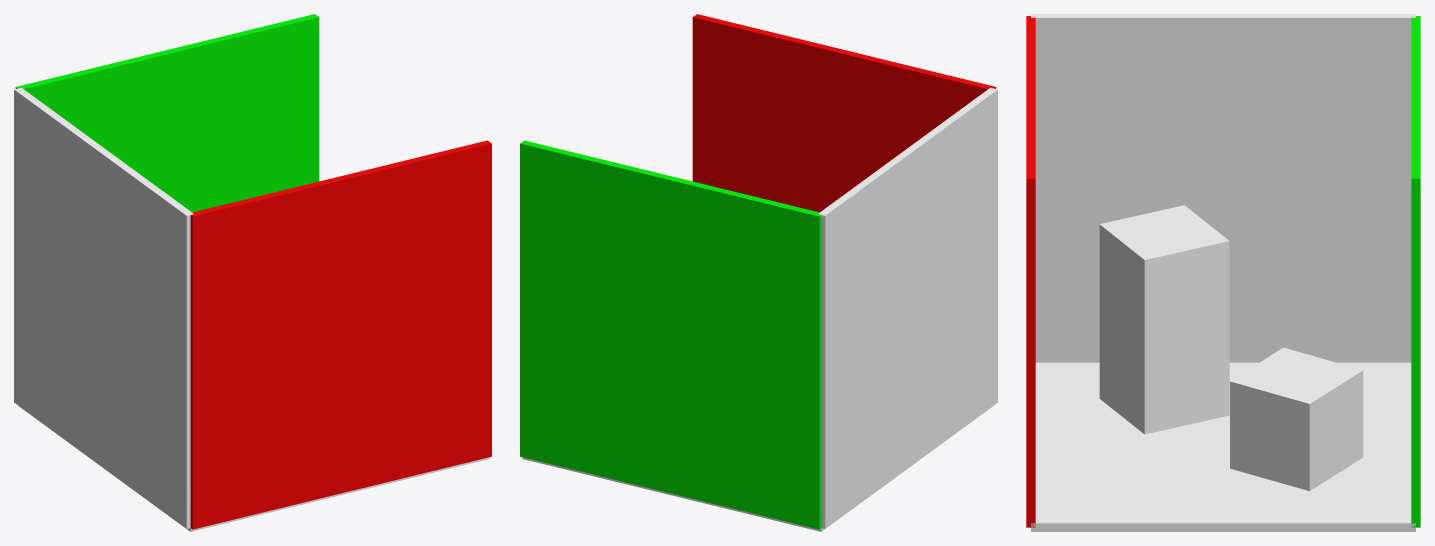
File: cornell_box.obj
The picture shows the model from 3 angles, left to right: view 1: azimuth 30°, elevation 25°; view 2: azimuth 150°, elevation 25°; view 3: azimuth 270°, elevation 25°; orthographic projection. The views are drawn at different scales.
Parts seen in each view (by area): view 1: Cube; view 2: Cube; view 3: Cube.
Boxes of the visible parts, x1,y1,x2,y2 form: Cube: (14,14,491,531); Cube: (520,14,997,531); Cube: (1026,14,1420,531).
Size of the model in its own units: 8.1 by 8.1 by 8.2.
